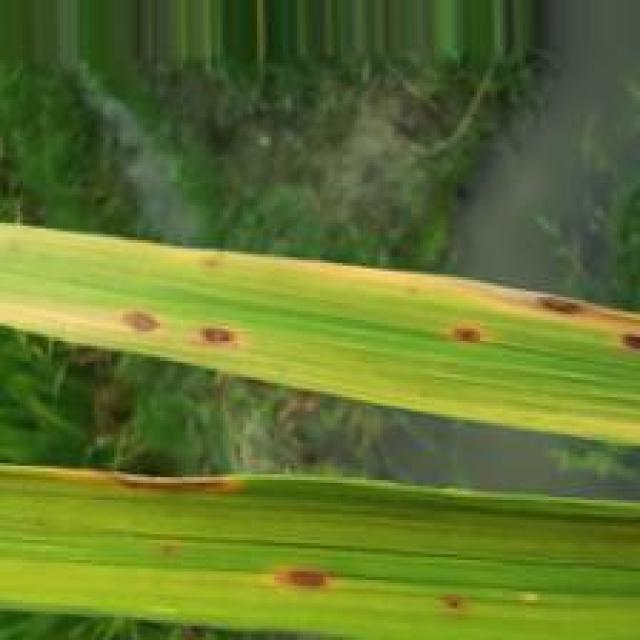Brown_Spot: (113, 473, 239, 494), (269, 563, 336, 594), (526, 294, 592, 319), (197, 322, 245, 348), (122, 307, 166, 335), (447, 320, 487, 348), (443, 591, 466, 614), (619, 331, 640, 350)
